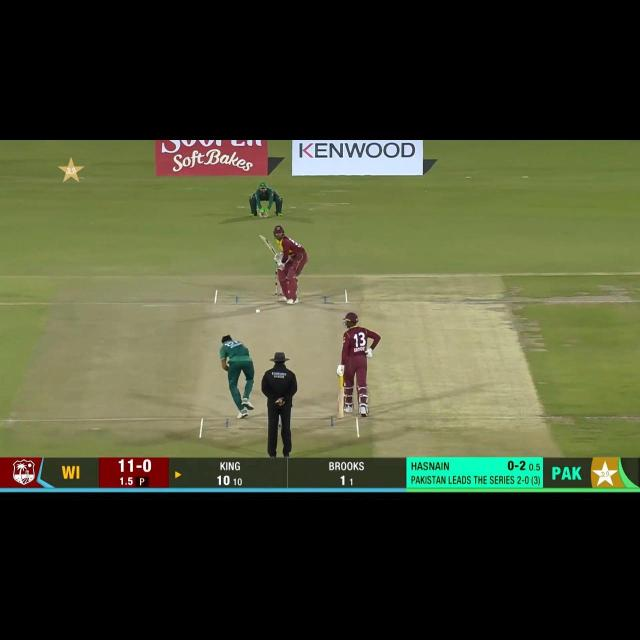bat: (258, 236, 276, 256), (338, 381, 344, 419)
toe: (258, 236, 266, 242), (338, 413, 345, 419)
